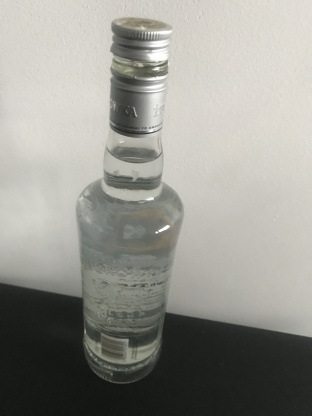nakretka: (107, 15, 173, 138)
